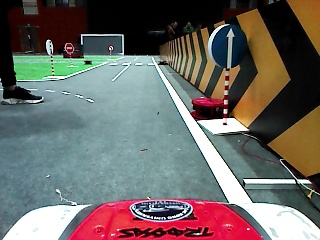straight: (208, 25, 249, 68)
